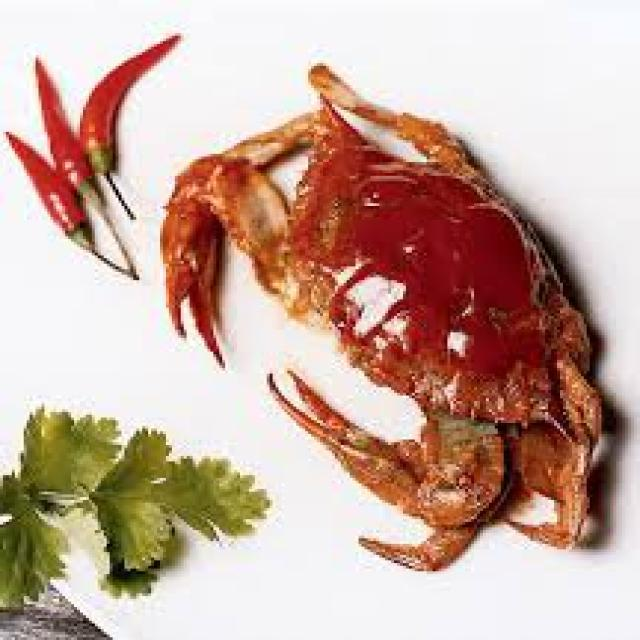crab: (166, 113, 536, 413)
